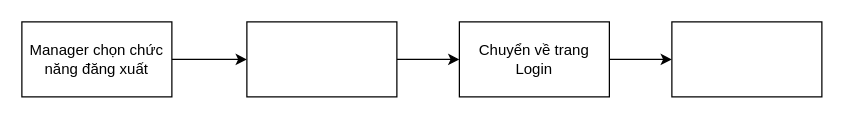
Image size: 844x119. Some labels were removed from this diagram. The centre of each missing label's shape, as x and y in pixels:
Hệ thống xóa thông tin đăng nhập: (321,59)
Kết thúc: (746,59)
